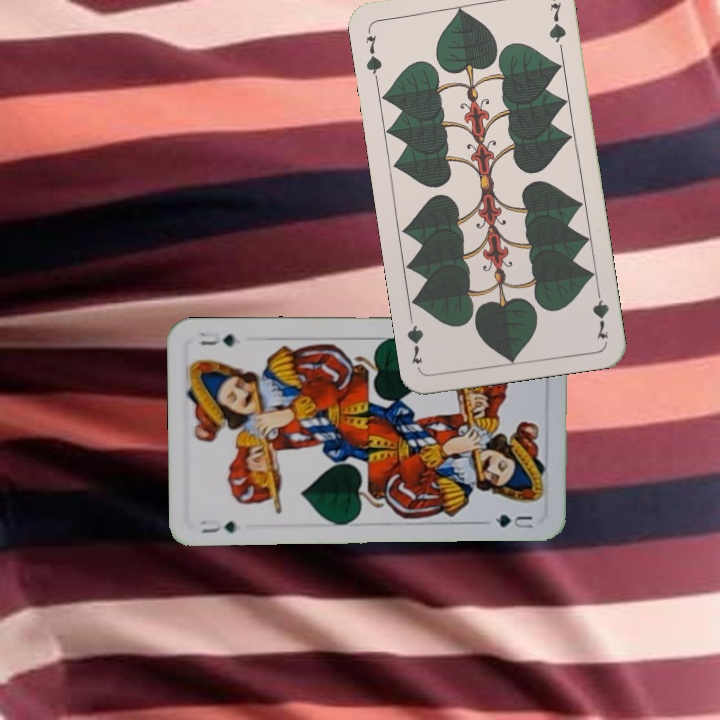G7: (588, 283, 612, 342), (361, 31, 385, 83)
GU: (197, 515, 240, 536)
